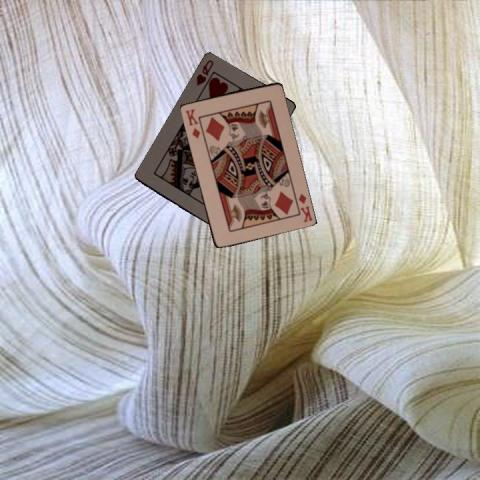Kd: (183, 105, 201, 140), (295, 191, 314, 223)
Qh: (194, 57, 215, 88)
